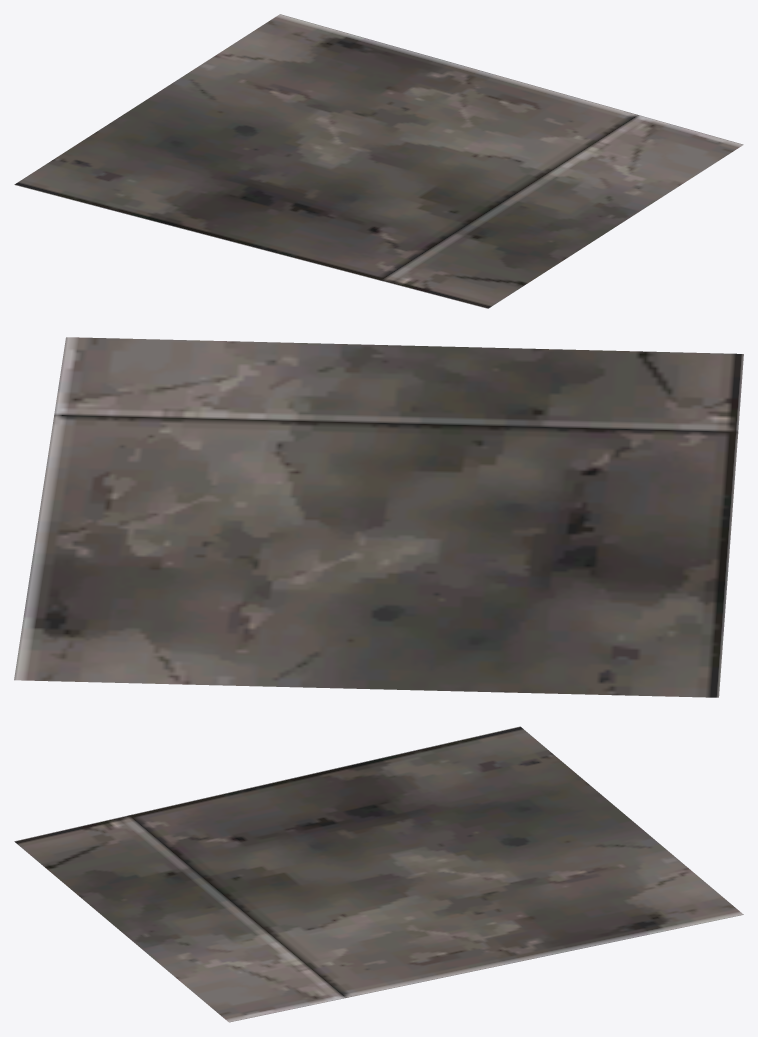
File: CH09_SMAUG_PLAYSURFACE_LAIR148.fbx
The picture shows the model from 3 angles, top to bottom: view 1: azimuth 30°, elevation 25°; view 2: azimuth 150°, elevation 25°; view 3: azimuth 270°, elevation 25°; orthographic projection. The views are drawn at different scales.
Parts seen in each view (by area): view 1: CH09_SMAUG_PLAYSURFACE_LAIR148; view 2: CH09_SMAUG_PLAYSURFACE_LAIR148; view 3: CH09_SMAUG_PLAYSURFACE_LAIR148.
Boxes of the visible parts, x1,y1,x2,y2 form: CH09_SMAUG_PLAYSURFACE_LAIR148: (14, 14, 743, 308); CH09_SMAUG_PLAYSURFACE_LAIR148: (14, 337, 743, 697); CH09_SMAUG_PLAYSURFACE_LAIR148: (14, 726, 743, 1022).
Bounding box in the file's own units: 14895 × 0.00253 × 15518.
Materials: 1 (1 with a texture image).
